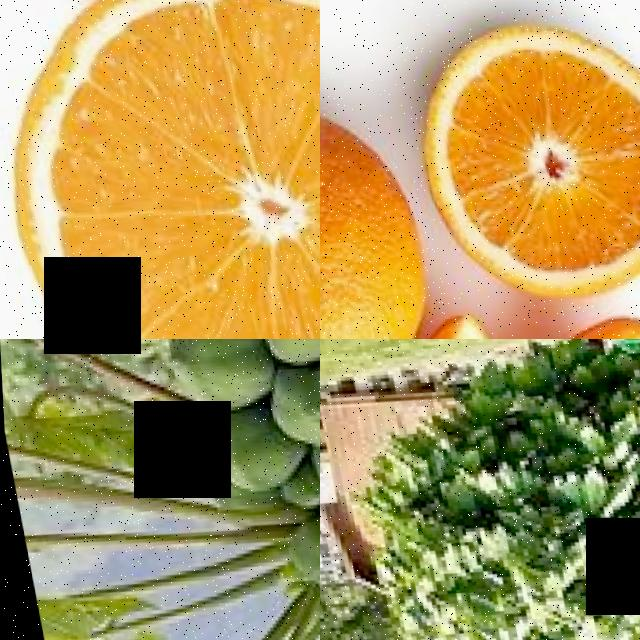orange: (0, 0, 320, 339), (393, 0, 640, 317), (320, 80, 444, 339)
pawpaw: (186, 401, 296, 499), (154, 339, 270, 415), (266, 350, 320, 455), (282, 504, 320, 594)
